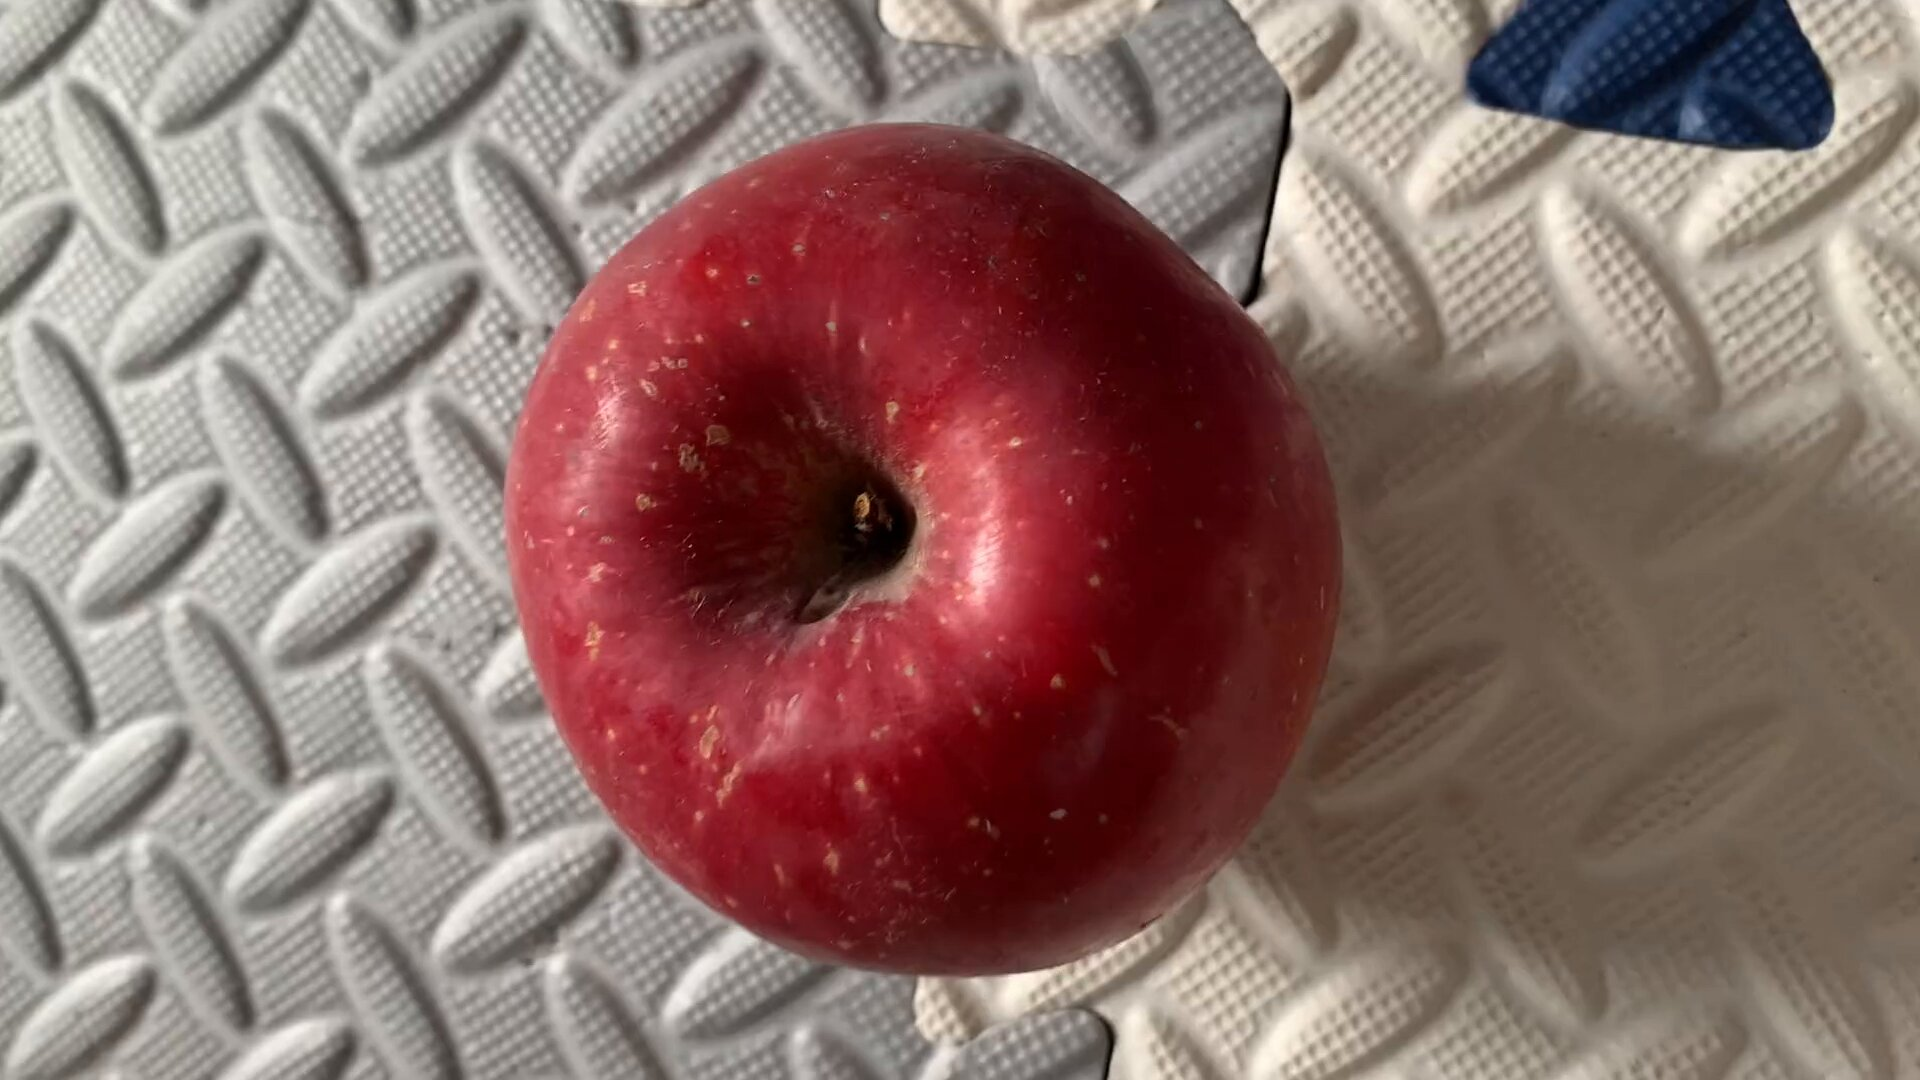不可回收水果: (487, 108, 1323, 965)
